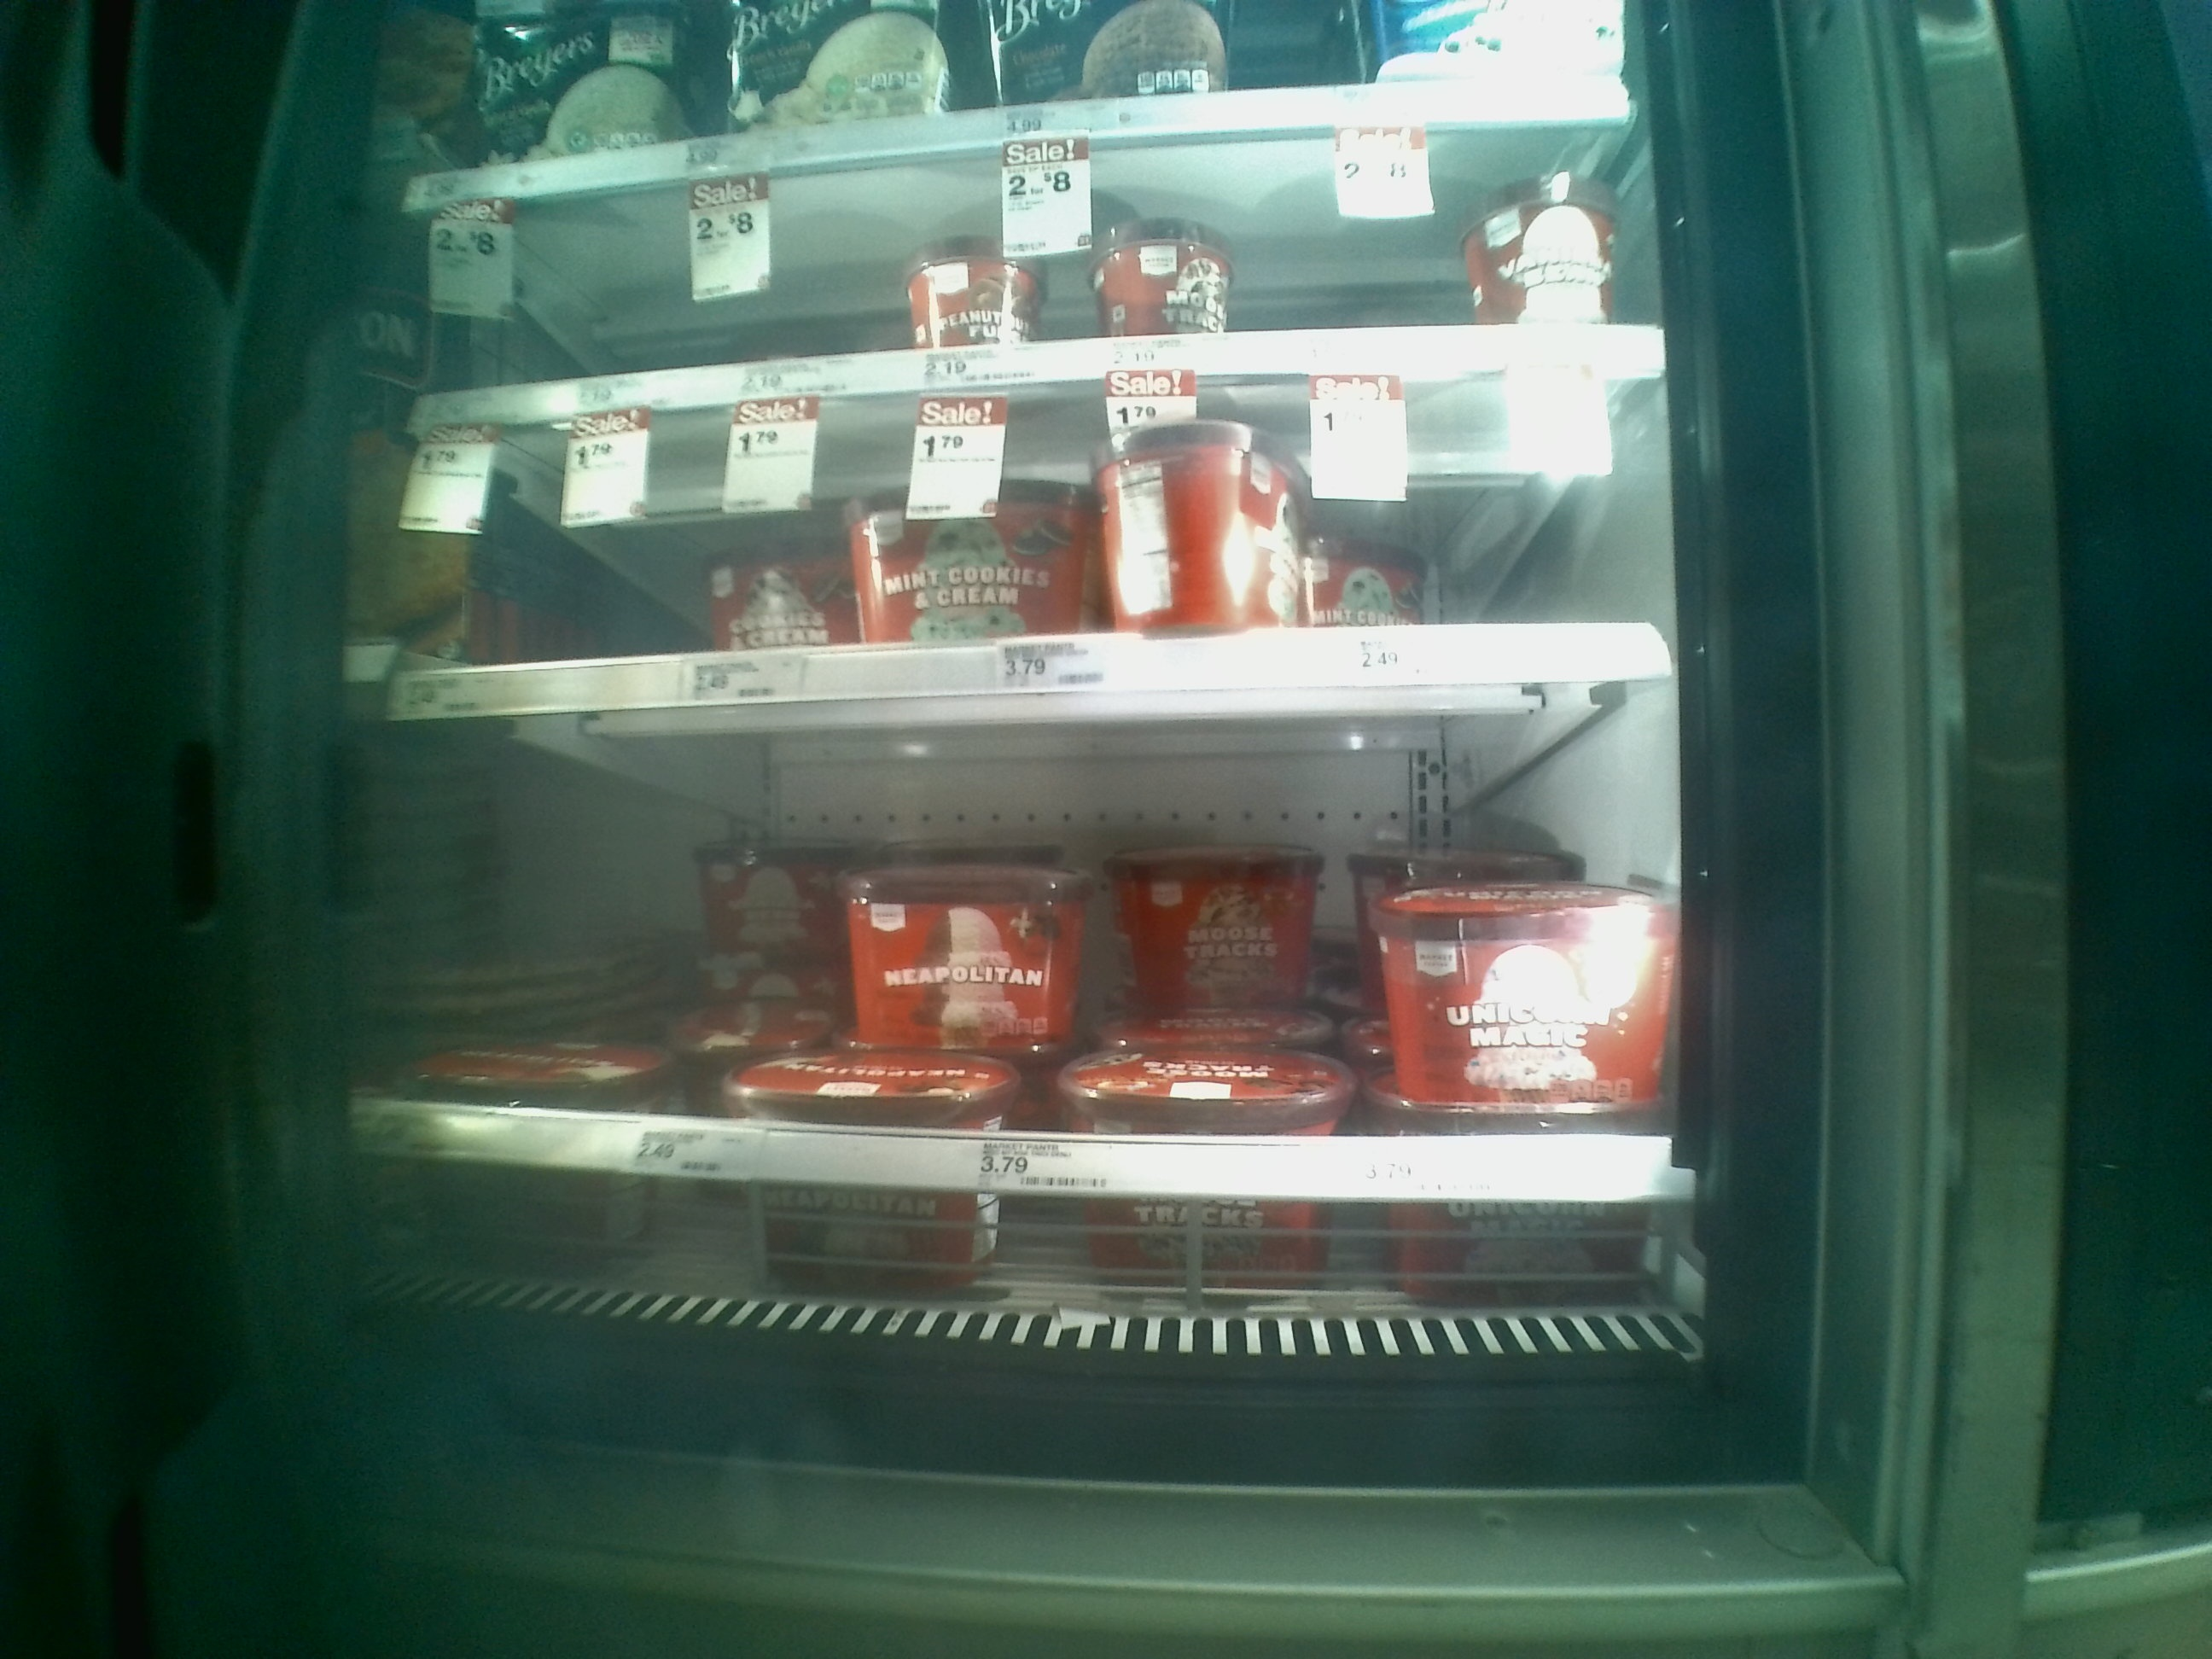shelf: (385, 734, 1709, 1354), (397, 390, 1669, 702)
